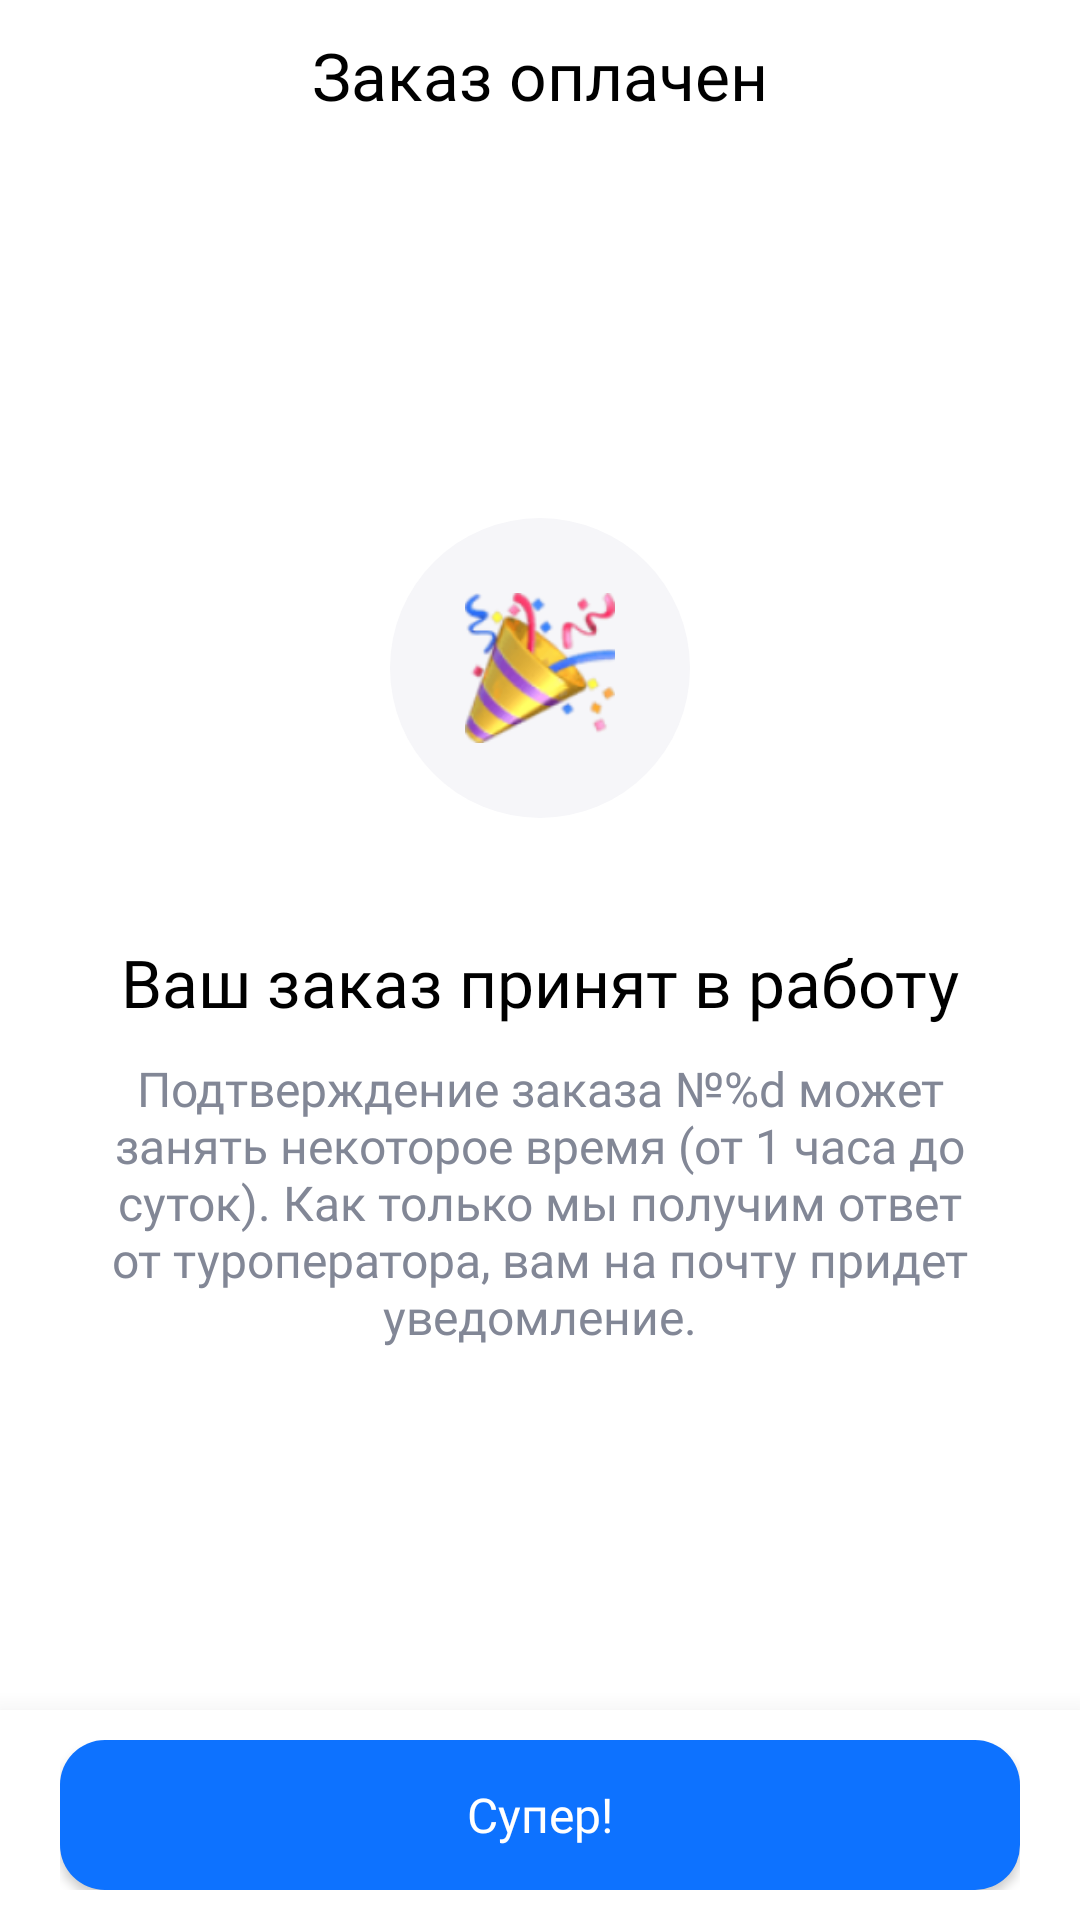

Point at icon controls on the screen. Image size 1080×1920, points as [x,y].
order finished: [540,668]
